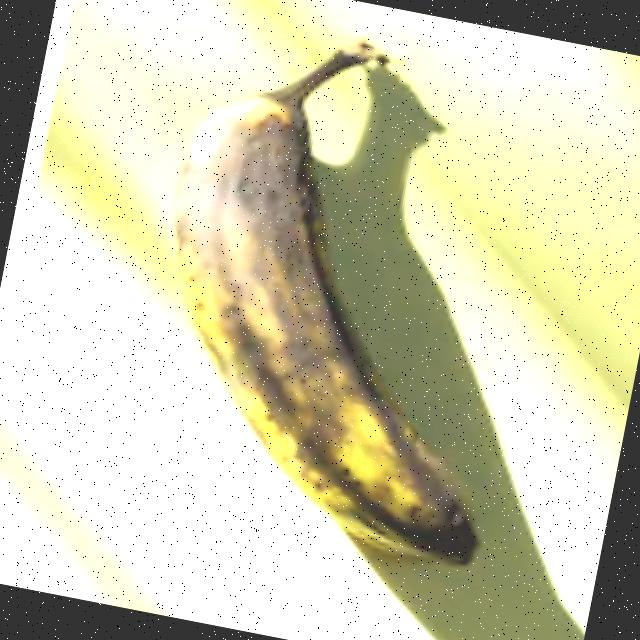Rotten: (101, 0, 600, 603)
